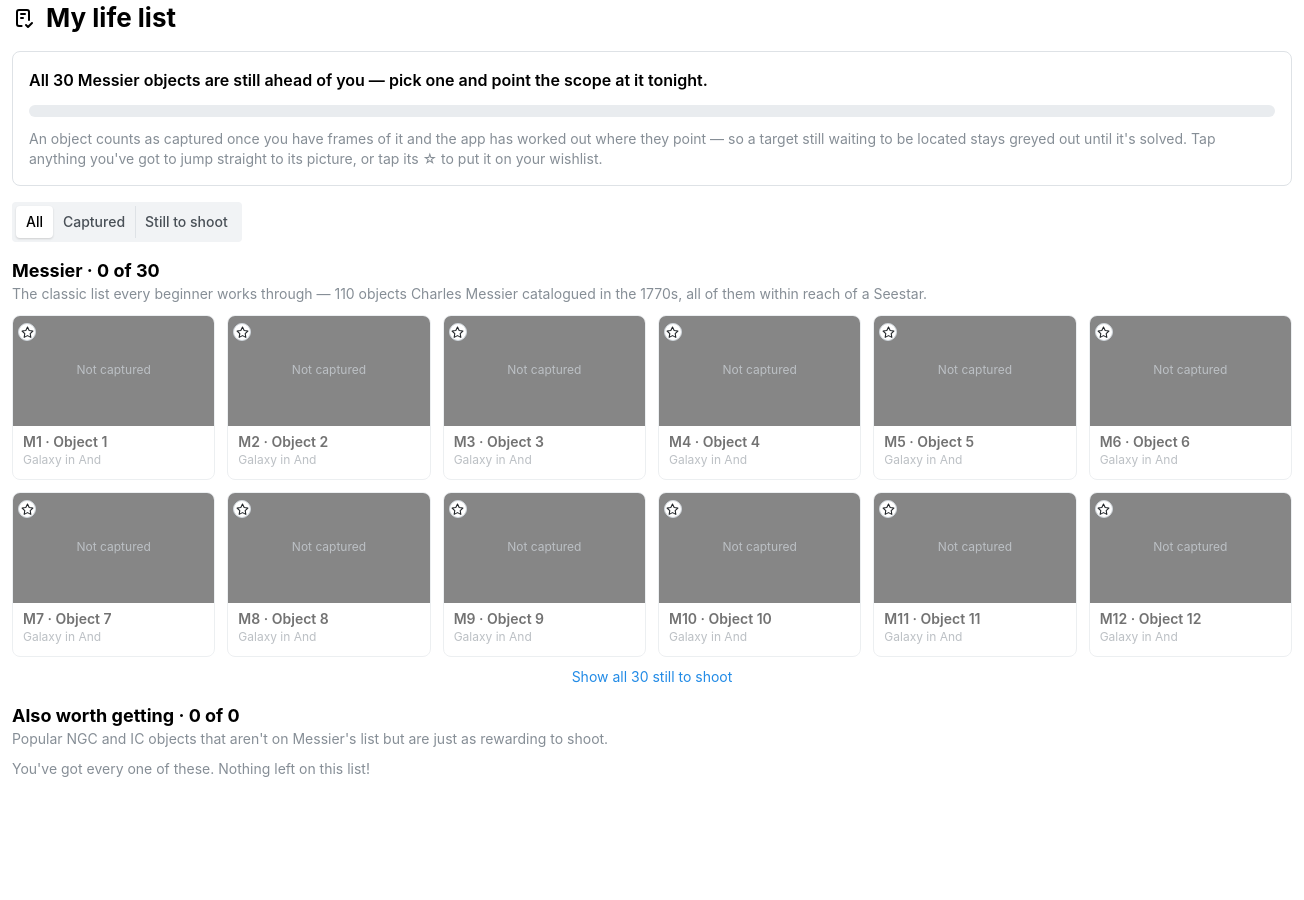
Test case: LifeListView › collapses the not-yet-shot tail behind a count, and opens it on request
Expected: the text "M1 · Object 1" is shown, [23, 433, 107, 450]
Expected: the text "M12 · Object 12" is shown, [1100, 610, 1202, 627]
...and the rest are one tap away, never gone.
Click the button "Show all 30 still to shoot": (652, 677) [12, 667, 1292, 687]
(page scrolled)
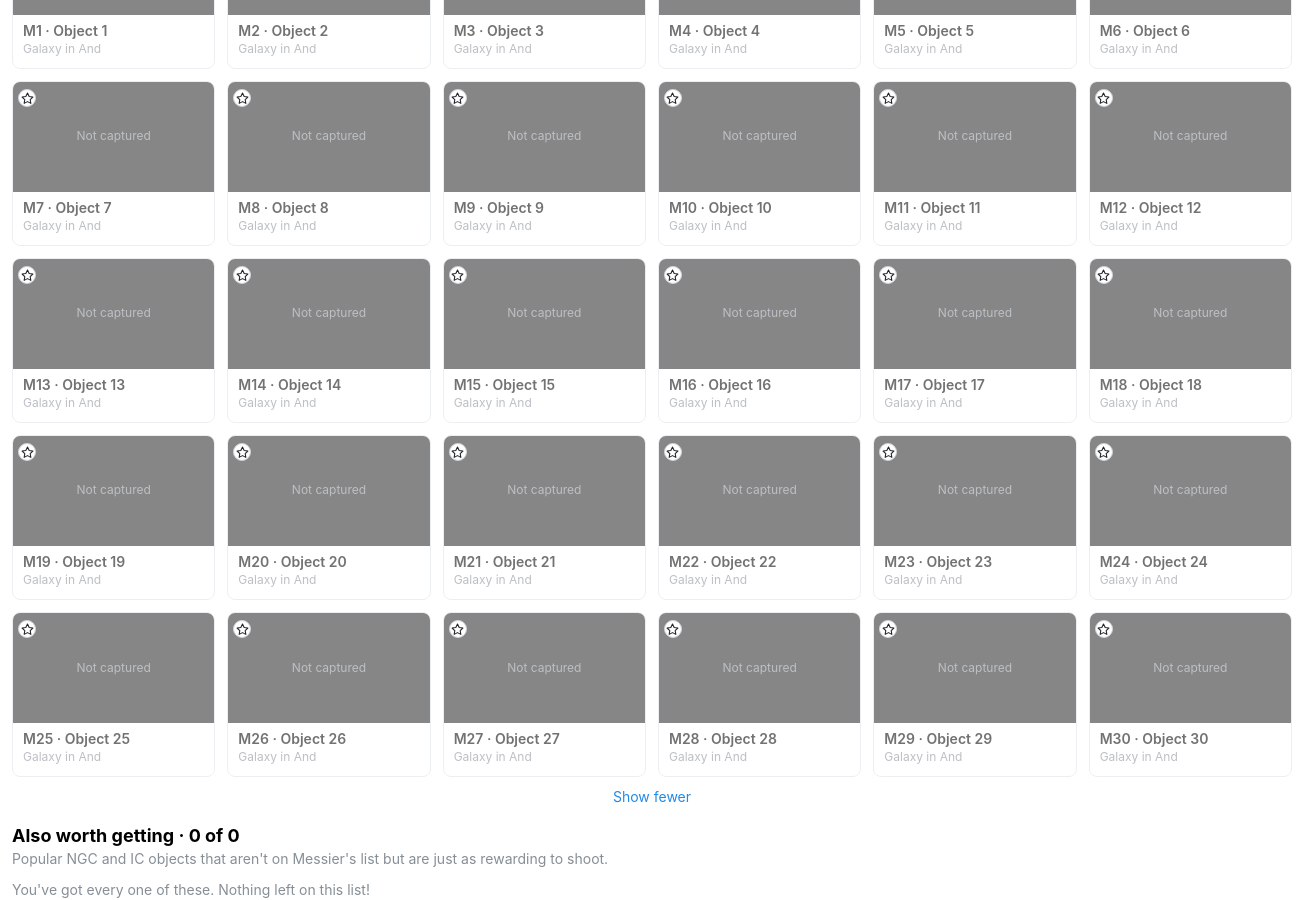
Result: the text "M13 · Object 13" is shown at [23, 376, 125, 393]
Result: the text "M30 · Object 30" is shown at [1100, 730, 1208, 747]
Click the button "Show fewer": (652, 797) [12, 787, 1292, 807]
(page scrolled)
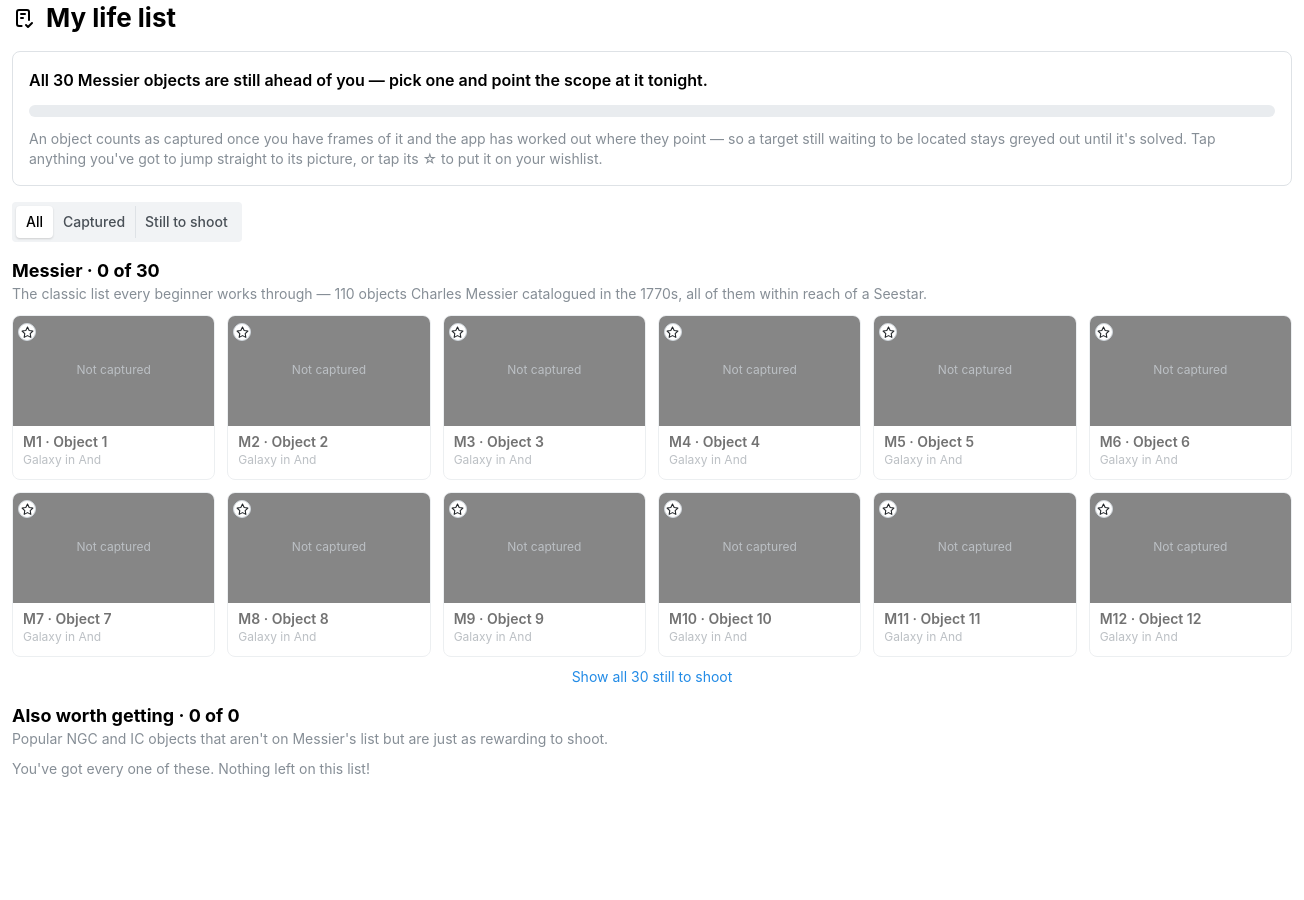
Result: the text "M30 · Object 30" is gone
